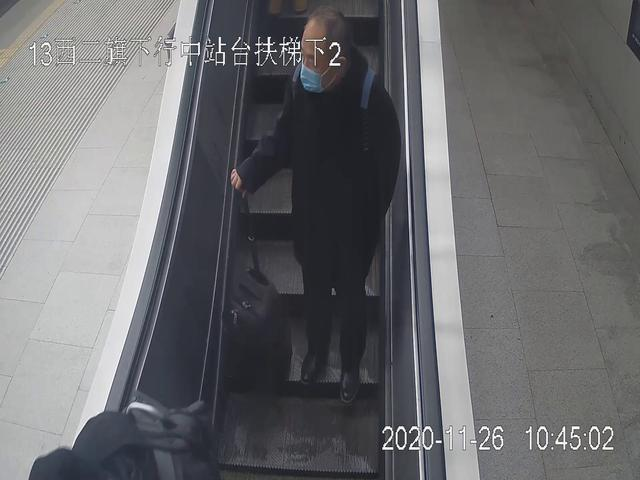person: (231, 8, 400, 403)
